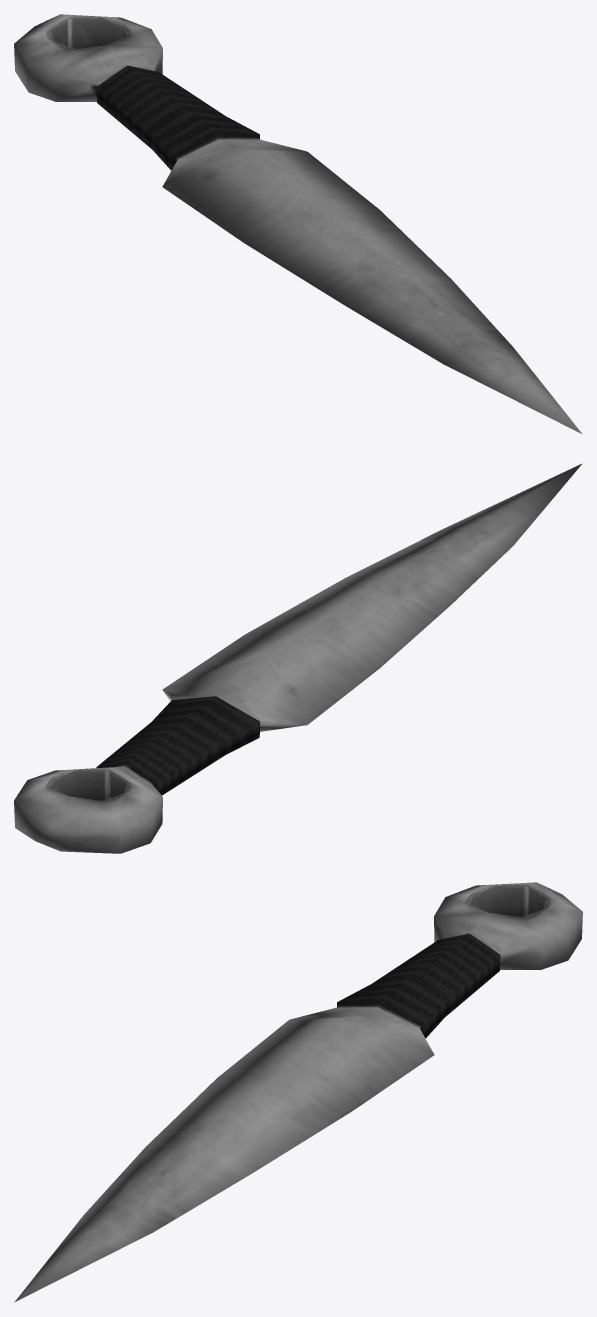
Rendered from NinjaKnife.fbx.
3 renders of one model, top to bottom at view 1: azimuth 30°, elevation 25°; view 2: azimuth 150°, elevation 25°; view 3: azimuth 330°, elevation 25°, orthographic.
Parts seen in each view (by area): view 1: knife_mesh; view 2: knife_mesh; view 3: knife_mesh.
Part boxes in pixels (<box>): knife_mesh: <box>14,14,582,434</box>; knife_mesh: <box>14,463,582,853</box>; knife_mesh: <box>14,882,582,1302</box>.
Bounding box in the file's own units: 3.44 × 1.45 × 21.84.
